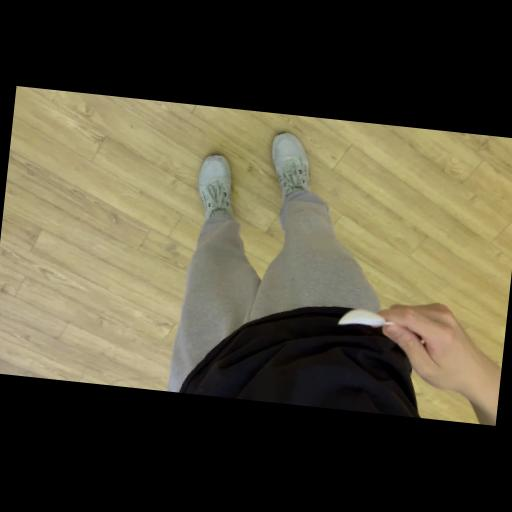utensil: (334, 305, 424, 344)
